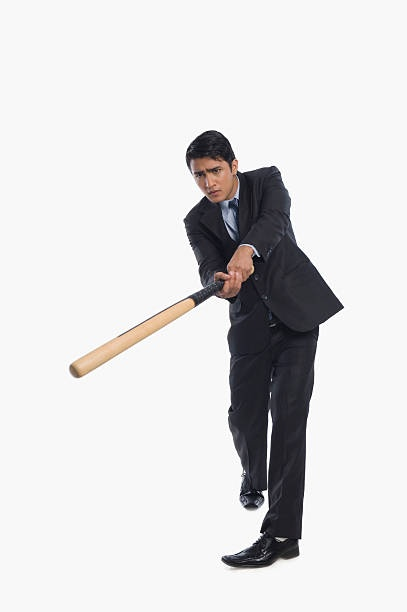bita: (60, 277, 233, 379)
